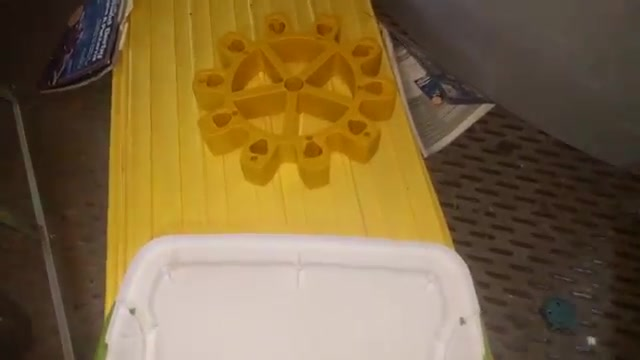gear: (188, 5, 404, 190)
